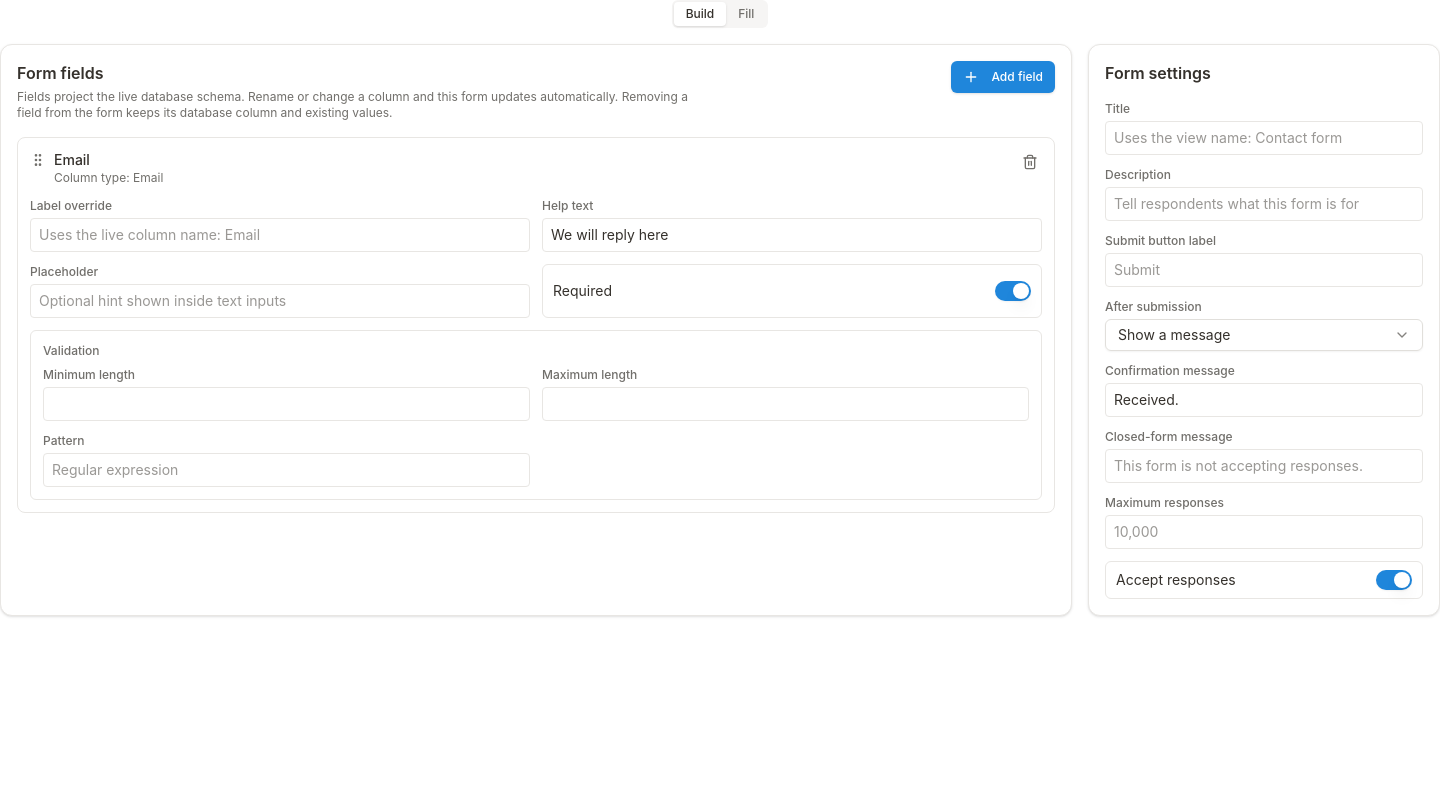
Test case: database form builder › explains failed new-field creation when the target is no longer a form
The image size is (1440, 810).
Press the mouse on the button "Add field" at (1003, 77), box [951,61,1055,93]
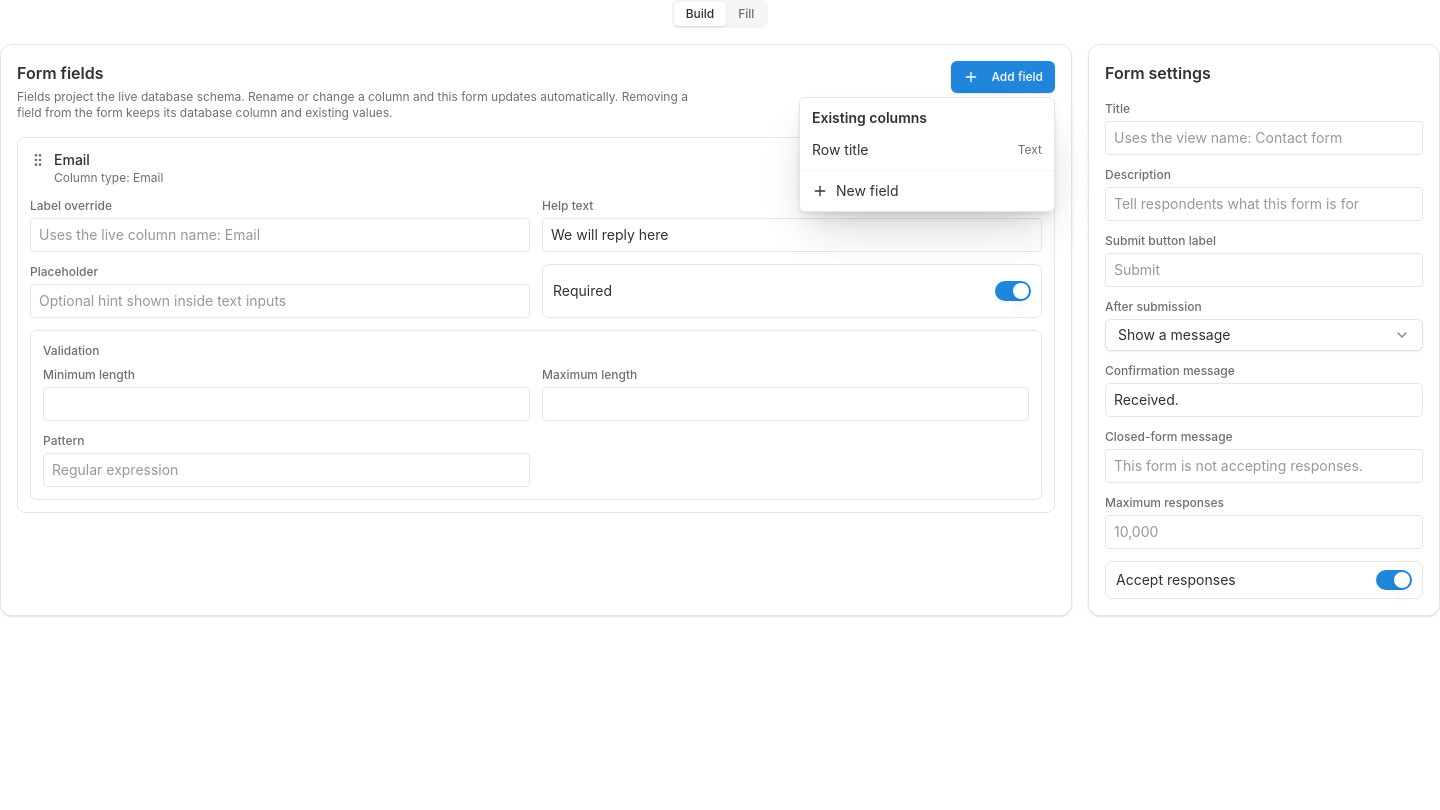
Click the menu item "New field" at (855, 190), box [812,182,899,199]
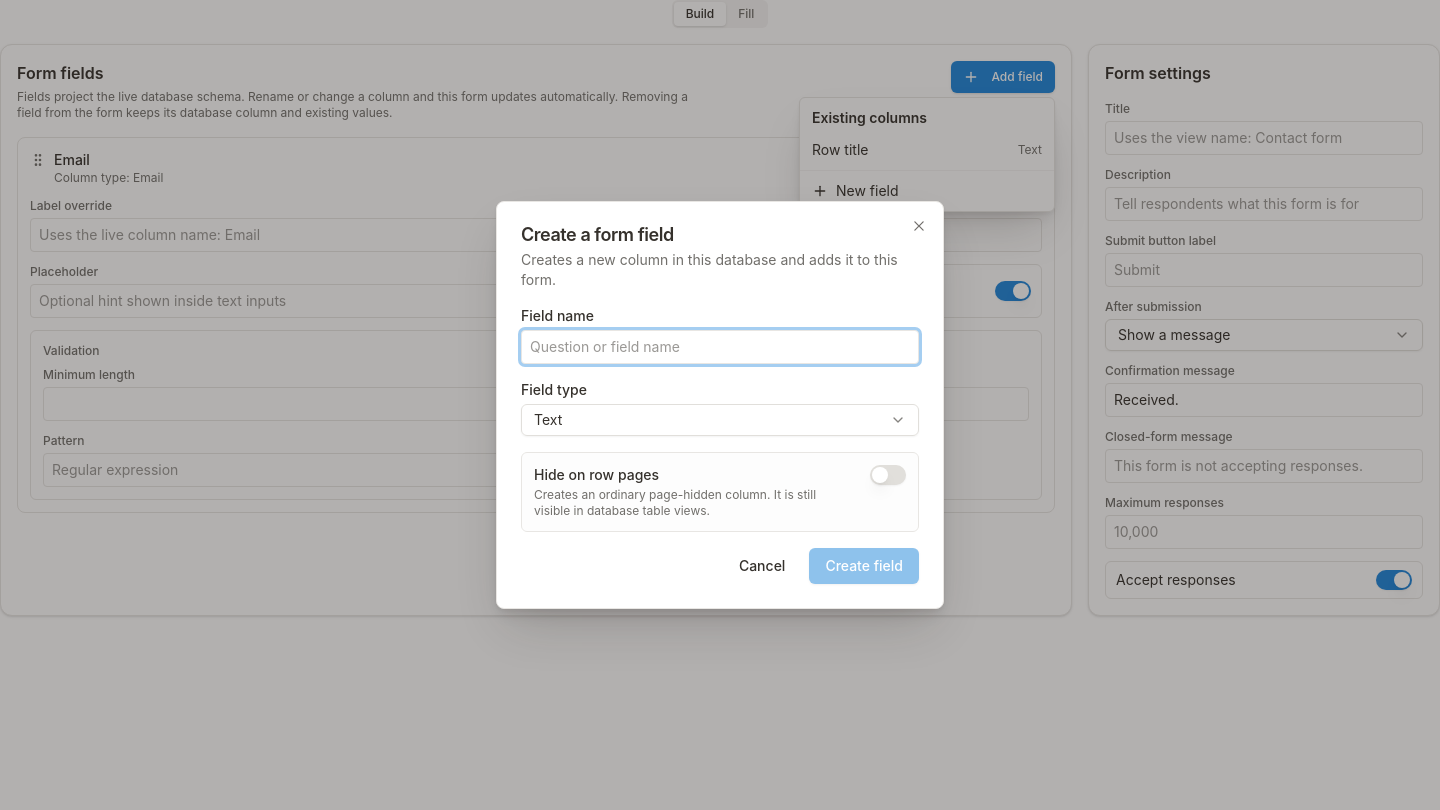
Now the text "Creates a new column in this database and adds it to this form." is shown, box [521,250,919,290]
Type "Follow-up" into the field labelled "Field name" at (720, 347), box [521,330,919,364]
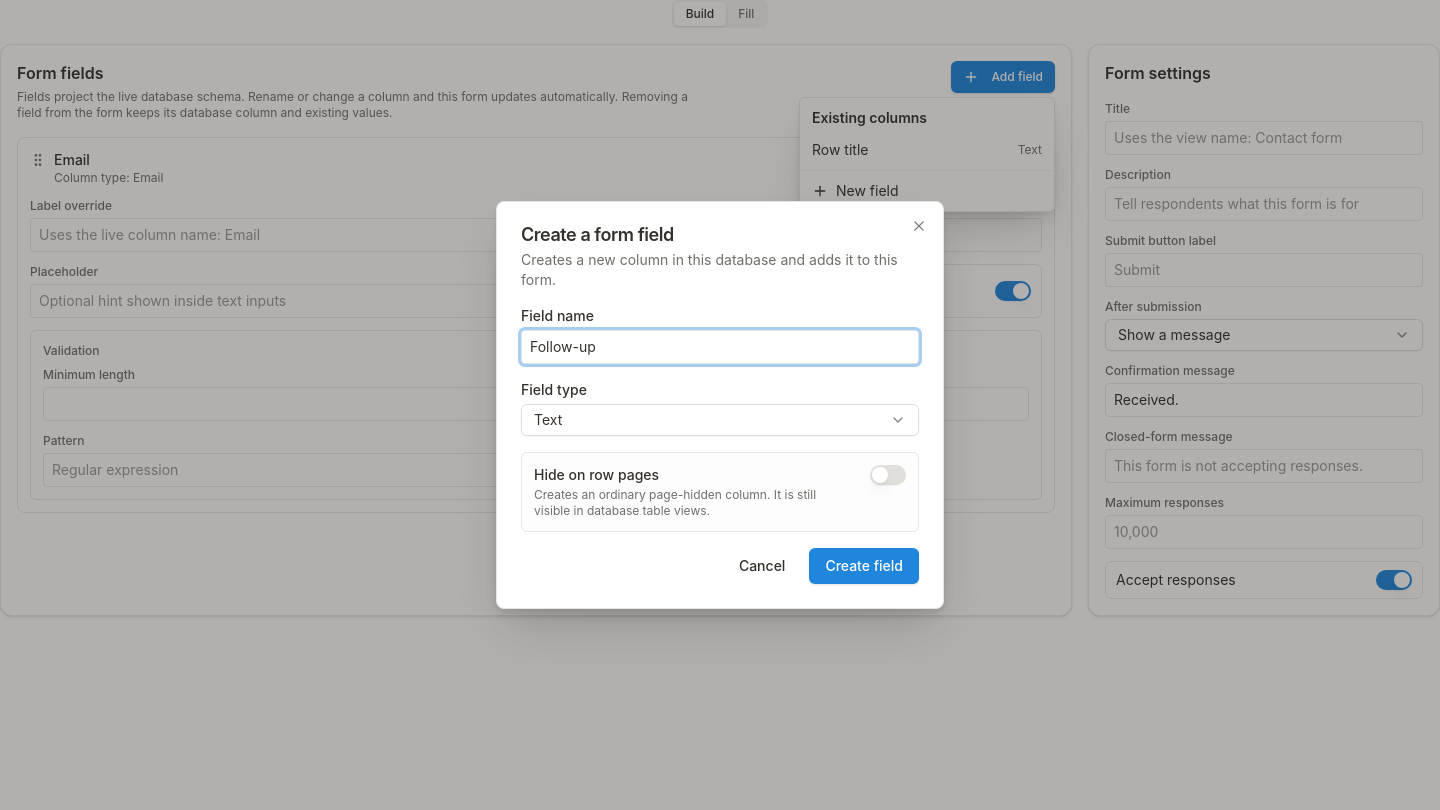
Click the button "Create field" at (864, 566), box [809,548,919,584]
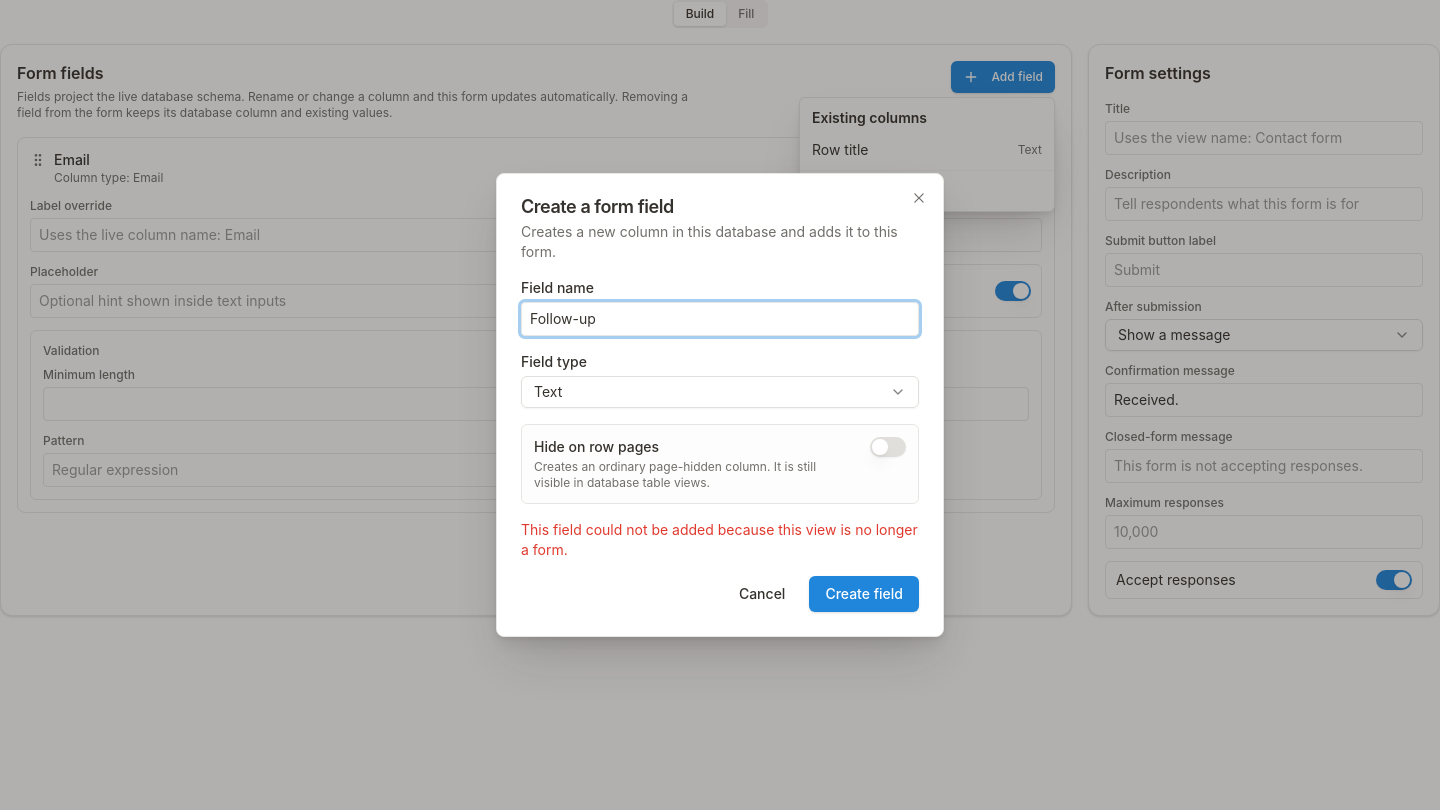
Now the message reads "This field could not be added because this view is no longer a form.", box [521,521,918,558]
